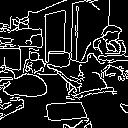cube: (41, 99, 102, 128)
